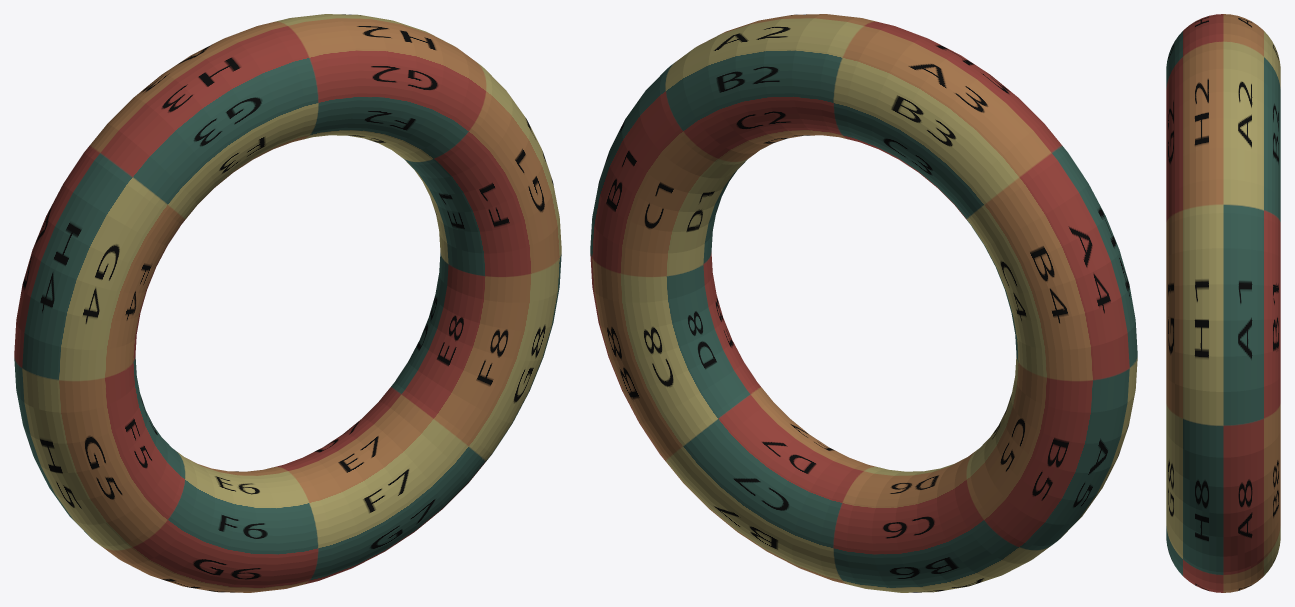
The model's file is texture_torus_R15_r11.glb.
3 views of the same model, side by side, from view 1: azimuth 30°, elevation 25°; view 2: azimuth 150°, elevation 25°; view 3: azimuth 270°, elevation 25° (orthographic). The views are drawn at different scales.
Parts seen in each view (by area): view 1: world; view 2: world; view 3: world.
Boxes of the visible parts, bbox=[...] form: world: bbox=[14, 14, 561, 592]; world: bbox=[590, 14, 1137, 592]; world: bbox=[1166, 14, 1280, 592].
Bounding box in the file's own units: 24.93 × 24.88 × 4.92.
1 material, 1 textured.
